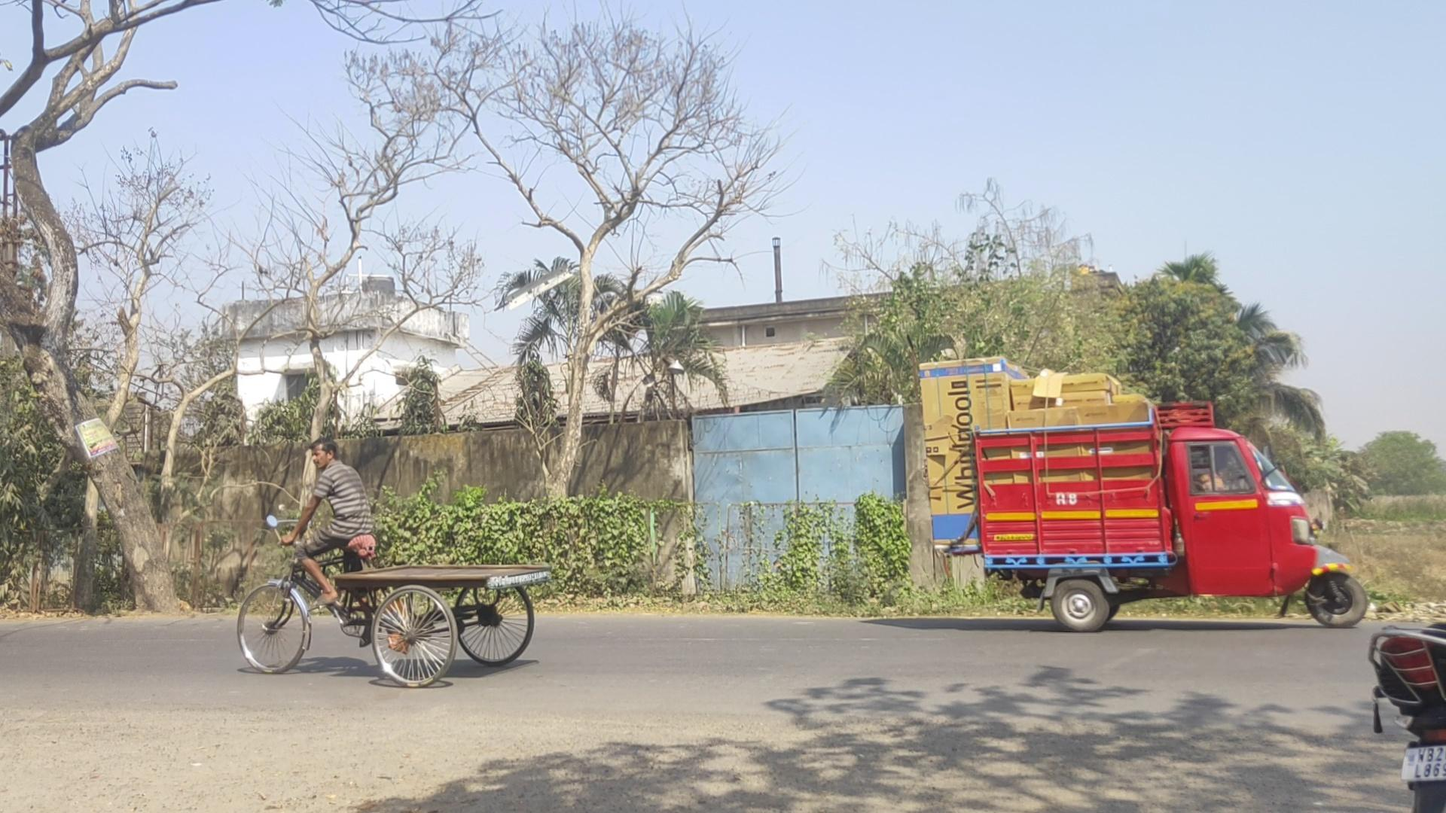van: (920, 357, 1368, 633)
